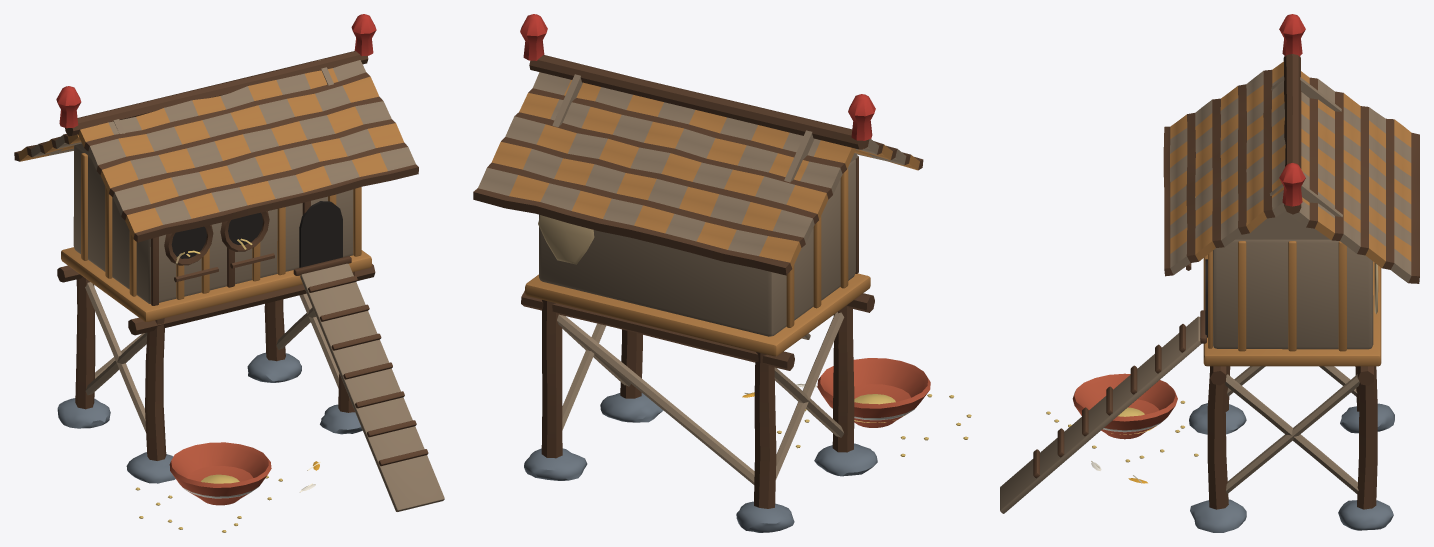
Rendered from deco_coop_stilt.fbx.
The picture shows the model from 3 angles, left to right: view 1: azimuth 30°, elevation 25°; view 2: azimuth 150°, elevation 25°; view 3: azimuth 270°, elevation 25°; orthographic projection. The views are drawn at different scales.
Visible parts, largest first — view 1: Coop_Stilt_Roof, Coop_Stilt_Coop, Coop_Stilt_Stilts, Coop_Stilt_Ramp, Coop_Stilt_Feed; view 2: Coop_Stilt_Roof, Coop_Stilt_Coop, Coop_Stilt_Stilts, Coop_Stilt_Feed; view 3: Coop_Stilt_Roof, Coop_Stilt_Coop, Coop_Stilt_Stilts, Coop_Stilt_Ramp, Coop_Stilt_Feed.
Part boxes in pixels (left/top/right/bottom): Coop_Stilt_Roof: left=14, top=14, right=418, bottom=242; Coop_Stilt_Coop: left=61, top=145, right=371, bottom=321; Coop_Stilt_Stilts: left=57, top=264, right=375, bottom=483; Coop_Stilt_Ramp: left=300, top=263, right=444, bottom=511; Coop_Stilt_Feed: left=135, top=442, right=320, bottom=532; Coop_Stilt_Roof: left=473, top=14, right=923, bottom=275; Coop_Stilt_Coop: left=525, top=157, right=870, bottom=356; Coop_Stilt_Stilts: left=521, top=290, right=877, bottom=532; Coop_Stilt_Feed: left=742, top=358, right=971, bottom=456; Coop_Stilt_Roof: left=1163, top=14, right=1419, bottom=283; Coop_Stilt_Coop: left=1186, top=239, right=1381, bottom=366; Coop_Stilt_Stilts: left=1189, top=366, right=1394, bottom=532; Coop_Stilt_Ramp: left=1000, top=316, right=1201, bottom=513; Coop_Stilt_Feed: left=1046, top=373, right=1198, bottom=483.
Size of the model in its own units: 227 by 253 by 250.
